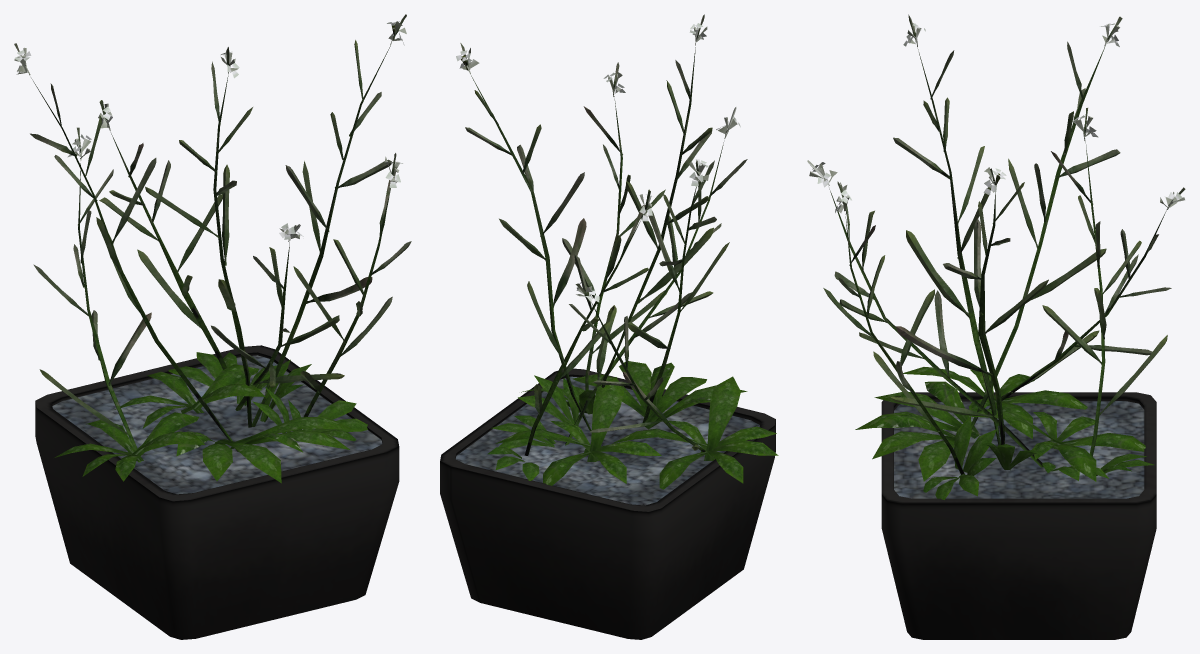
The model's file is PFastgiata.FBX.
3 views of the same model, side by side, from view 1: azimuth 30°, elevation 25°; view 2: azimuth 150°, elevation 25°; view 3: azimuth 270°, elevation 25° (orthographic). The views are drawn at different scales.
Parts seen in each view (by area): view 1: Pot1, PFastgiata2Mesh, Soil1; view 2: Pot1, PFastgiata2Mesh, Soil1; view 3: Pot1, PFastgiata2Mesh, Soil1.
Boxes of the visible parts, x1=… form: Pot1: x1=35, y1=345, x2=399, y2=639; PFastgiata2Mesh: x1=14, y1=14, x2=411, y2=483; Soil1: x1=52, y1=355, x2=382, y2=494; Pot1: x1=440, y1=368, x2=775, y2=639; PFastgiata2Mesh: x1=456, y1=14, x2=778, y2=489; Soil1: x1=455, y1=376, x2=759, y2=505; Pot1: x1=881, y1=392, x2=1156, y2=639; PFastgiata2Mesh: x1=807, y1=14, x2=1185, y2=499; Soil1: x1=894, y1=401, x2=1144, y2=498.
Bounding box in the file's own units: 14.15 × 23.59 × 14.47.
Materials: 1 (1 with a texture image).
